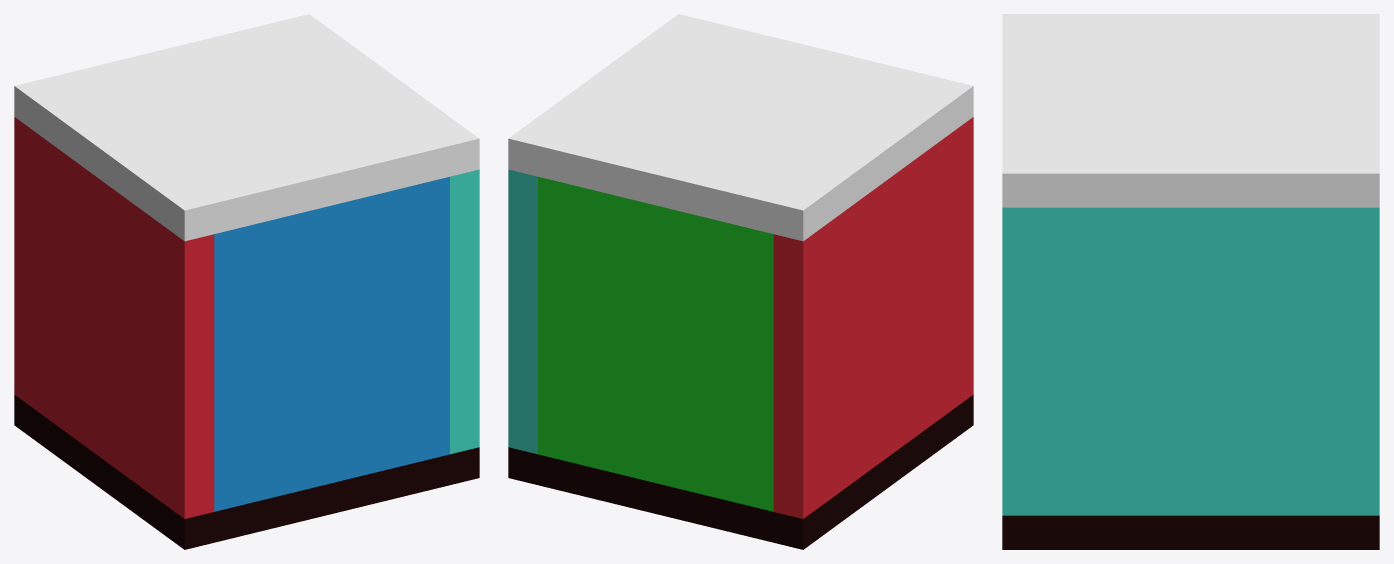
File: kiste.glb
3 views of the same model, side by side, from view 1: azimuth 30°, elevation 25°; view 2: azimuth 150°, elevation 25°; view 3: azimuth 270°, elevation 25° (orthographic). The views are drawn at different scales.
Parts seen in each view (by area): view 1: mitte1, top, rechts, bot, links; view 2: mitte2, top, rechts, bot, links; view 3: links, top, bot.
Part boxes in pixels (x1=…): mitte1: x1=214, y1=176, x2=449, y2=511; top: x1=14, y1=14, x2=479, y2=241; rechts: x1=14, y1=117, x2=214, y2=518; bot: x1=14, y1=394, x2=479, y2=549; links: x1=450, y1=169, x2=479, y2=454; mitte2: x1=538, y1=176, x2=773, y2=511; top: x1=508, y1=14, x2=973, y2=241; rechts: x1=773, y1=117, x2=973, y2=518; bot: x1=508, y1=394, x2=973, y2=549; links: x1=508, y1=169, x2=537, y2=454; links: x1=1002, y1=207, x2=1379, y2=515; top: x1=1002, y1=14, x2=1379, y2=207; bot: x1=1002, y1=515, x2=1379, y2=549.
Size of the model in its own units: 1 by 1.1 by 1.
